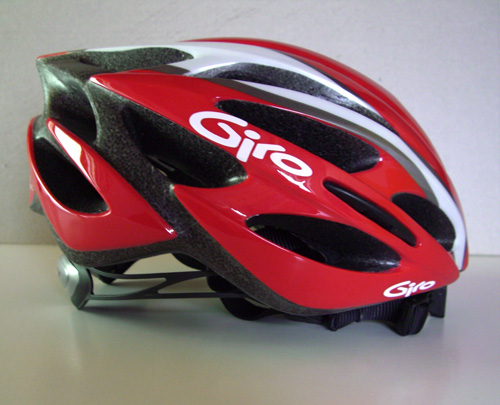helmet: (47, 34, 434, 312)
